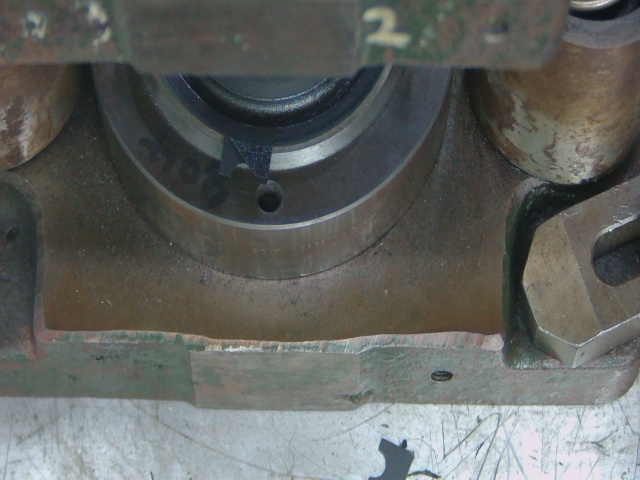OK: (218, 139, 283, 192)
